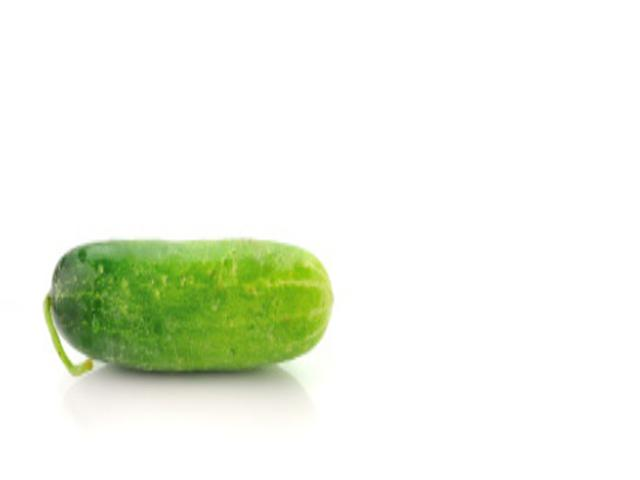cucumber: (45, 239, 336, 376)
